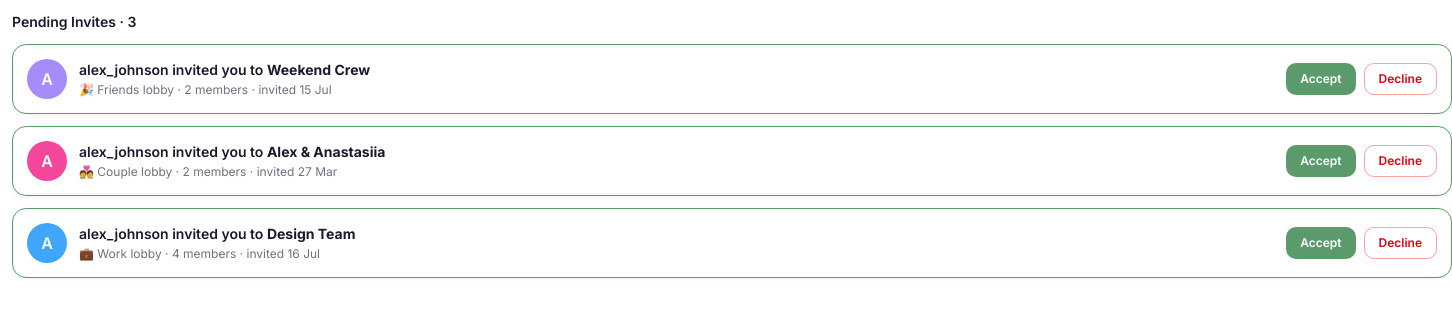
PendingInvitesBanner › shows the stale-invite message and refetches on a 409 accept
Expected: the heading "Pending Invites · 3" is shown, [12,12,136,32]
Click the button "Accept" in the row of "Weekend Crew".
click(1321, 79)  # box [1286,63,1356,95]
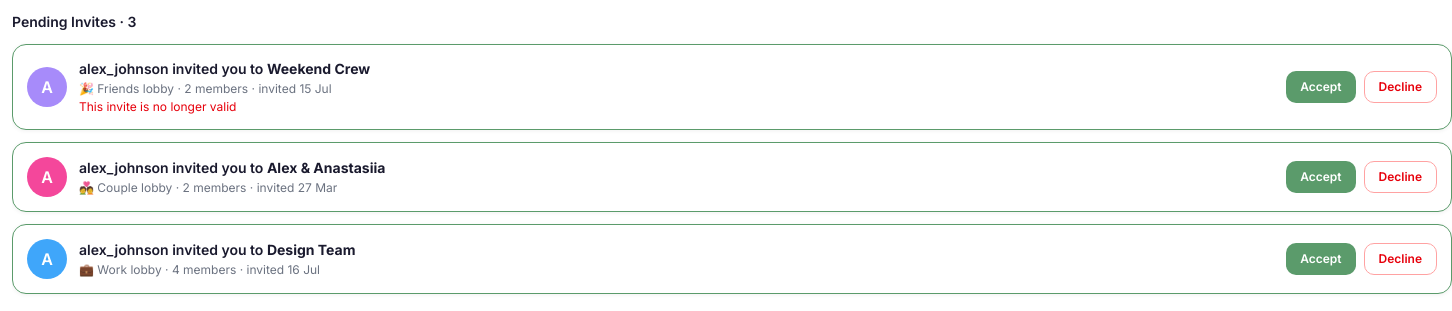
Expected: the text "This invite is no longer valid" is shown, [79,99,236,114]
